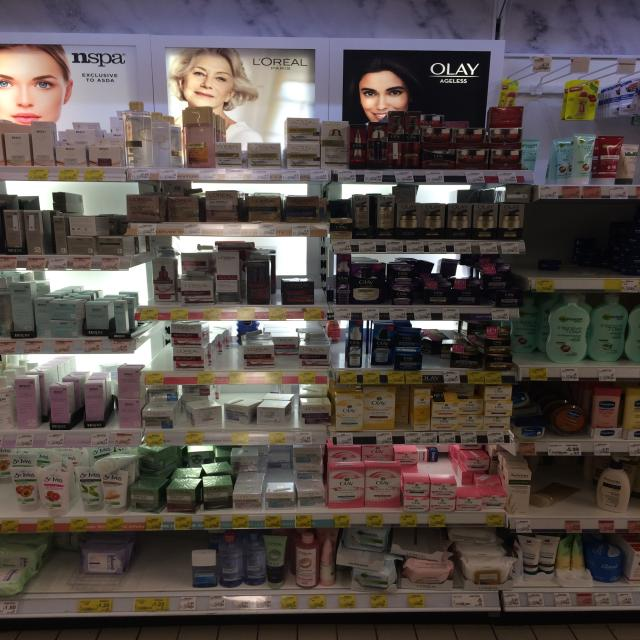void: (132, 532, 188, 588)
